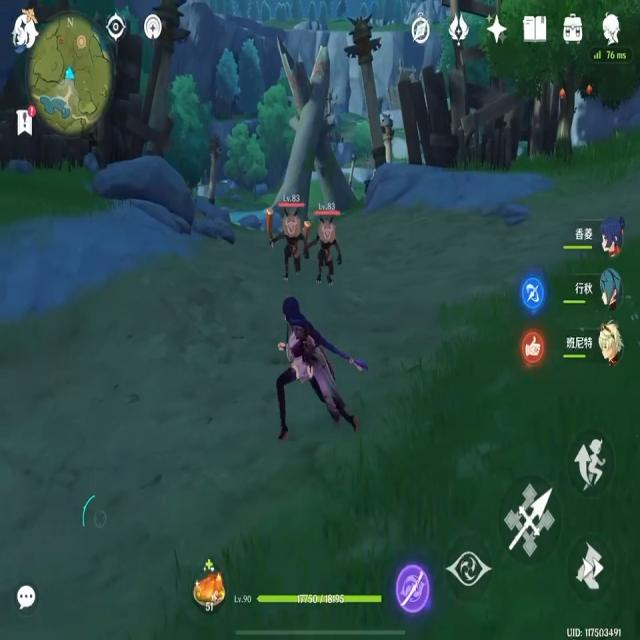genshin-hilichurls: (274, 212, 304, 271), (316, 218, 337, 290)
